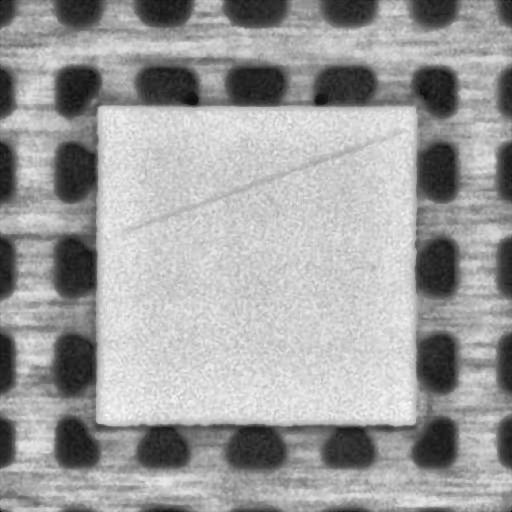DIE_CRACK: (120, 130, 400, 232)
